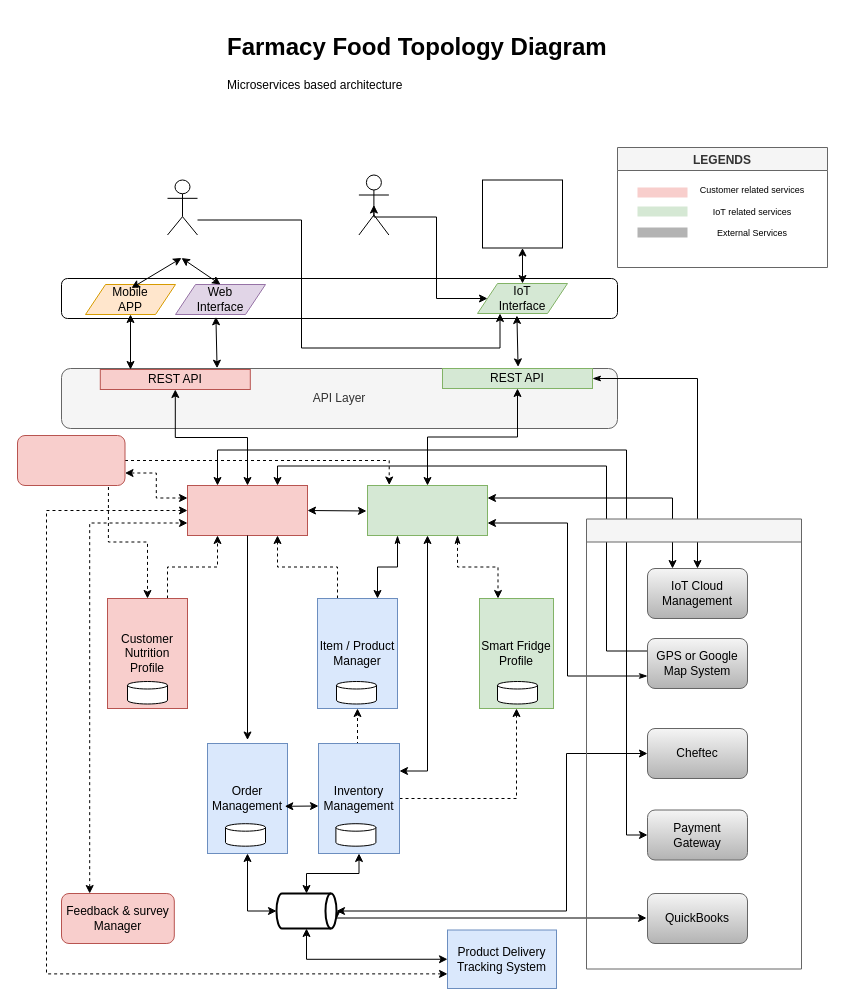
This 845x1006 diagram has some shape labels left out. Each missing label, with the centre of its shape:
Actor - Customer: point 182,207
Actor - Employee: point 373,204
Customer Service: point 247,510
IoT Devices (Smart Fridge): point 522,213
Marketing & Promotion System: point 70,460
MQ: point 306,910
Smart Fridge Service: point 427,510
Third Party Services: point 694,743
